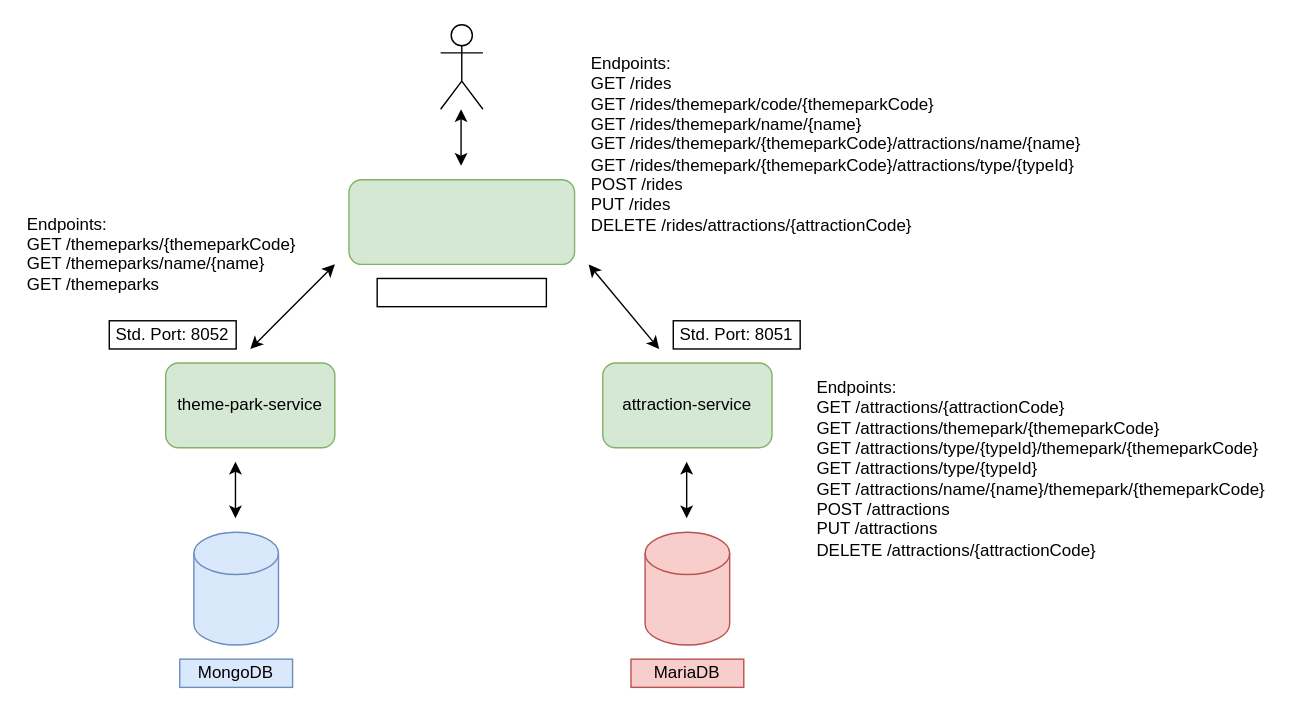
Image size: 1303x712. Some labels were removed from this diagram. The shapes that lost their labels are listed below. From the top down, each one's centre as x and y in pixels, then its label:
At (461,221): "parkrides-edge-service".
At (461,292): "Std. Port: 8050".
